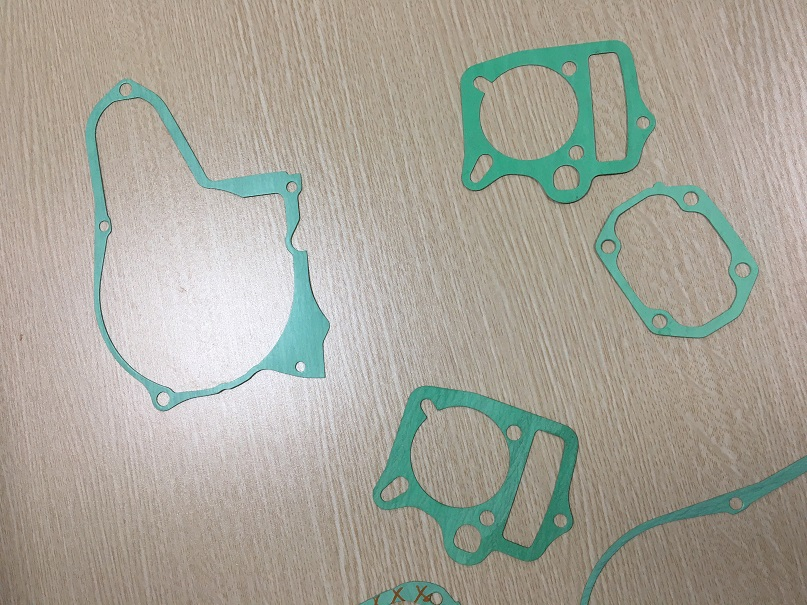type1: (72, 68, 344, 424)
type2: (587, 179, 766, 341)
type4: (370, 378, 584, 573), (445, 34, 660, 206)
